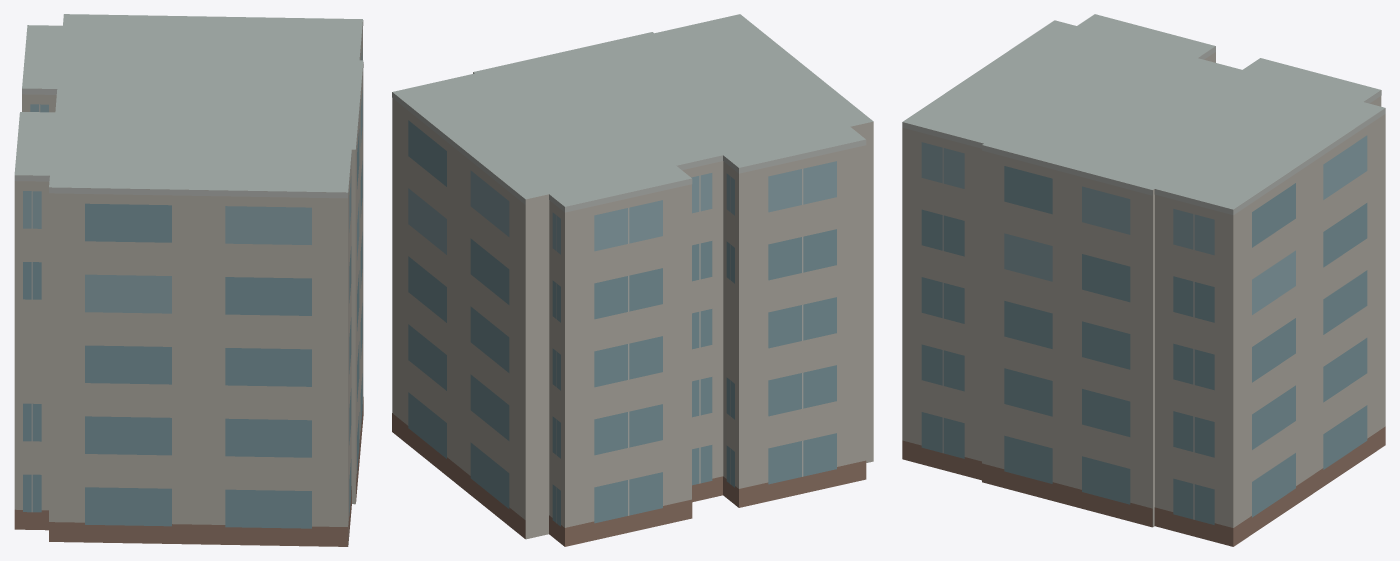
File: survey-upis-32737420.glb
3 renders of one model, left to right at view 1: azimuth 30°, elevation 25°; view 2: azimuth 150°, elevation 25°; view 3: azimuth 270°, elevation 25°, orthographic. The views are drawn at different scales.
Parts seen in each view (by area): view 1: survey-upis-32737420.tmp; view 2: survey-upis-32737420.tmp; view 3: survey-upis-32737420.tmp.
Part boxes in pixels (x1,y1,x2,y2): survey-upis-32737420.tmp: [14, 14, 363, 546]; survey-upis-32737420.tmp: [392, 14, 873, 546]; survey-upis-32737420.tmp: [902, 14, 1385, 546].
Bounding box in the file's own units: 17.99 × 14.45 × 18.78.
